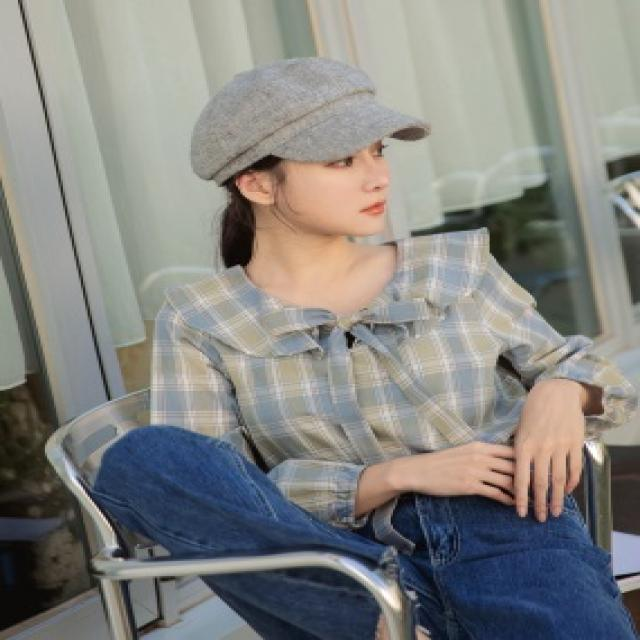plaid: (146, 261, 602, 469)
